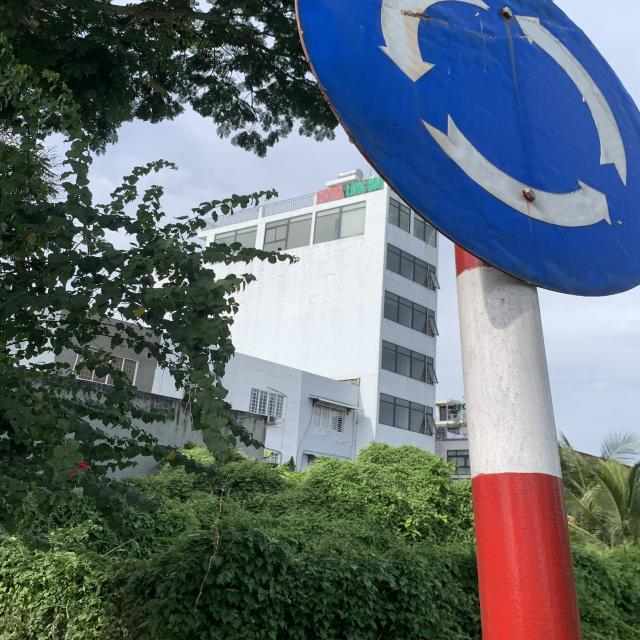Xe_Bus: (289, 0, 638, 294)
